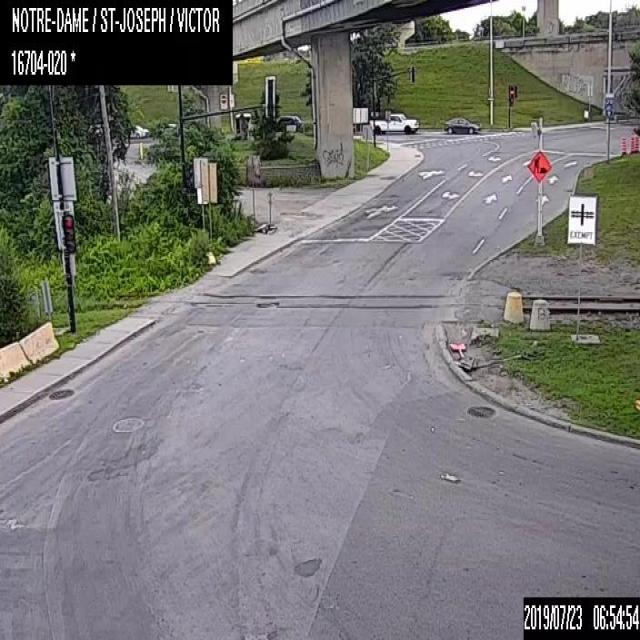construction: (527, 150, 551, 180), (621, 137, 625, 155), (634, 135, 638, 153), (629, 135, 633, 153)
vehicle: (368, 110, 418, 134), (442, 117, 478, 133), (275, 115, 305, 125), (128, 124, 148, 137)
